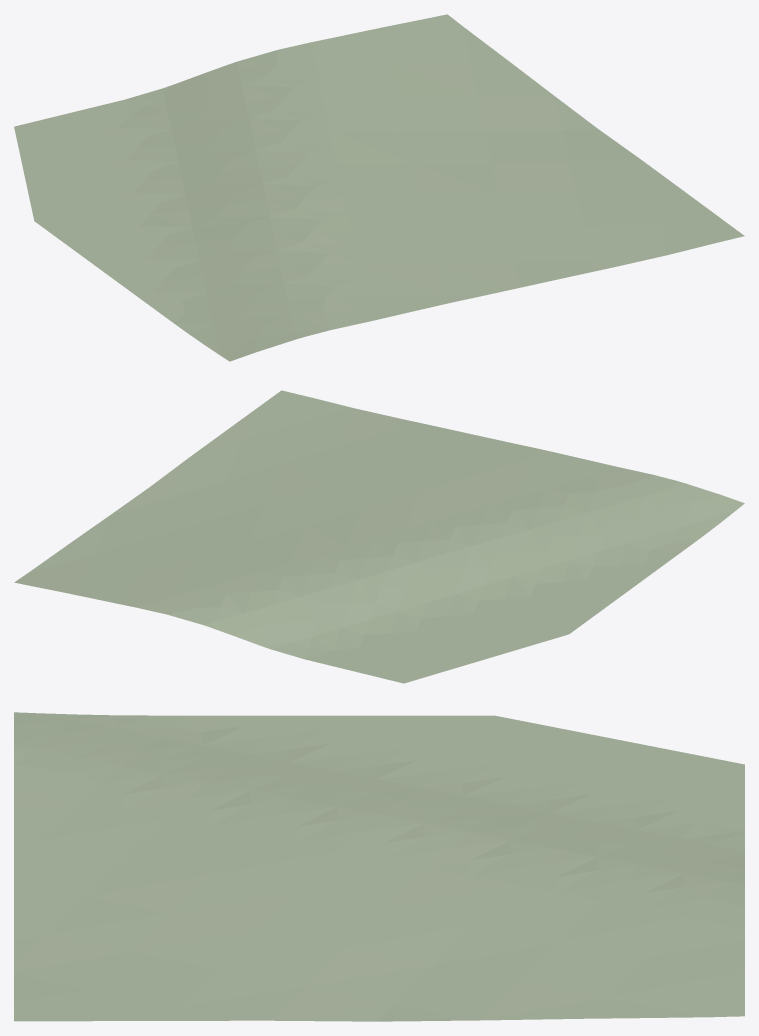
The model's file is SM_MPRR_Terrain_-3_3.fbx.
3 views of the same model, one above another, from view 1: azimuth 30°, elevation 25°; view 2: azimuth 150°, elevation 25°; view 3: azimuth 270°, elevation 25° (orthographic). The views are drawn at different scales.
Visible parts, largest first — view 1: SM_MPRR_Terrain_-3_3; view 2: SM_MPRR_Terrain_-3_3; view 3: SM_MPRR_Terrain_-3_3.
Boxes of the visible parts, left/top/right/bottom form: SM_MPRR_Terrain_-3_3: left=14, top=14, right=744, bottom=361; SM_MPRR_Terrain_-3_3: left=14, top=390, right=744, bottom=683; SM_MPRR_Terrain_-3_3: left=14, top=712, right=744, bottom=1021.
Bounding box in the file's own units: 15000 × 15000 × 346.
